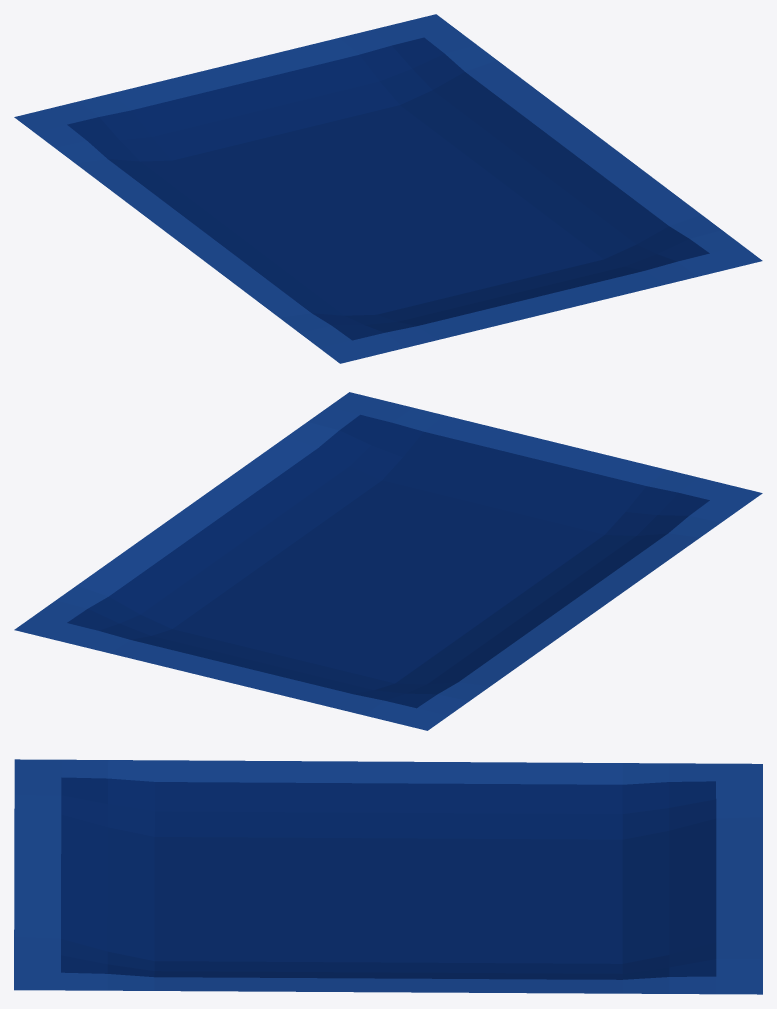
File: Level_1_Passage.fbx
The picture shows the model from 3 angles, top to bottom: view 1: azimuth 30°, elevation 25°; view 2: azimuth 150°, elevation 25°; view 3: azimuth 270°, elevation 25°; orthographic projection. The views are drawn at different scales.
Visible parts, largest first — view 1: Level1_Passage; view 2: Level1_Passage; view 3: Level1_Passage.
Part boxes in pixels (x1,y1,x2,y2): Level1_Passage: (14, 14, 762, 363); Level1_Passage: (14, 392, 762, 730); Level1_Passage: (14, 759, 762, 994).
Size of the model in its own units: 3793 by 176 by 5108.
1 material, 1 textured.
